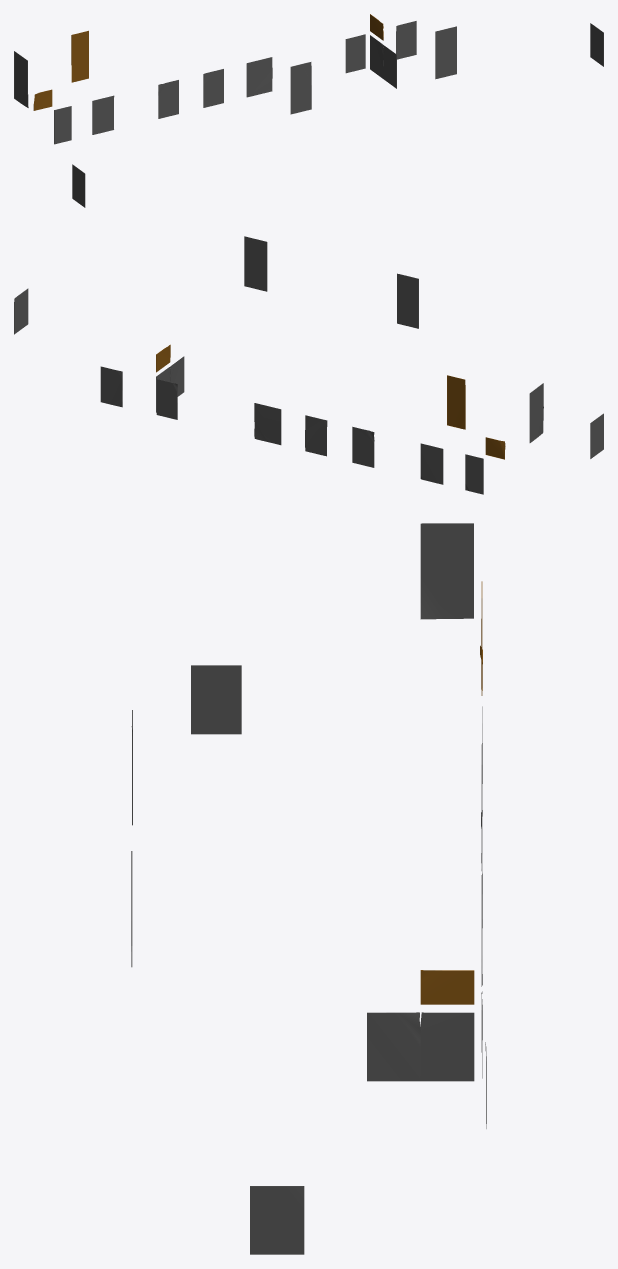
File: SM_H_Building_Tide_Dock_10a_ATLAS.fbx
3 views of the same model, one above another, from view 1: azimuth 30°, elevation 25°; view 2: azimuth 150°, elevation 25°; view 3: azimuth 270°, elevation 25° (orthographic). The views are drawn at different scales.
Parts seen in each view (by area): view 1: SM_H_Building_Tide_Dock_10a_ATLAS_LOD0; view 2: SM_H_Building_Tide_Dock_10a_ATLAS_LOD0; view 3: SM_H_Building_Tide_Dock_10a_ATLAS_LOD0.
Boxes of the visible parts, x1,y1,x2,y2 form: SM_H_Building_Tide_Dock_10a_ATLAS_LOD0: [14, 14, 603, 207]; SM_H_Building_Tide_Dock_10a_ATLAS_LOD0: [14, 236, 603, 494]; SM_H_Building_Tide_Dock_10a_ATLAS_LOD0: [131, 523, 486, 1254].
Bounding box in the file's own units: 7470 × 2152 × 1407.
